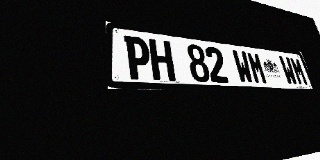2: (204, 46, 229, 83)
8: (186, 43, 211, 82)
H: (148, 39, 176, 81)
M: (246, 51, 268, 84), (289, 57, 309, 86)
P: (124, 35, 152, 80)
W: (231, 50, 255, 84), (278, 56, 299, 85)
